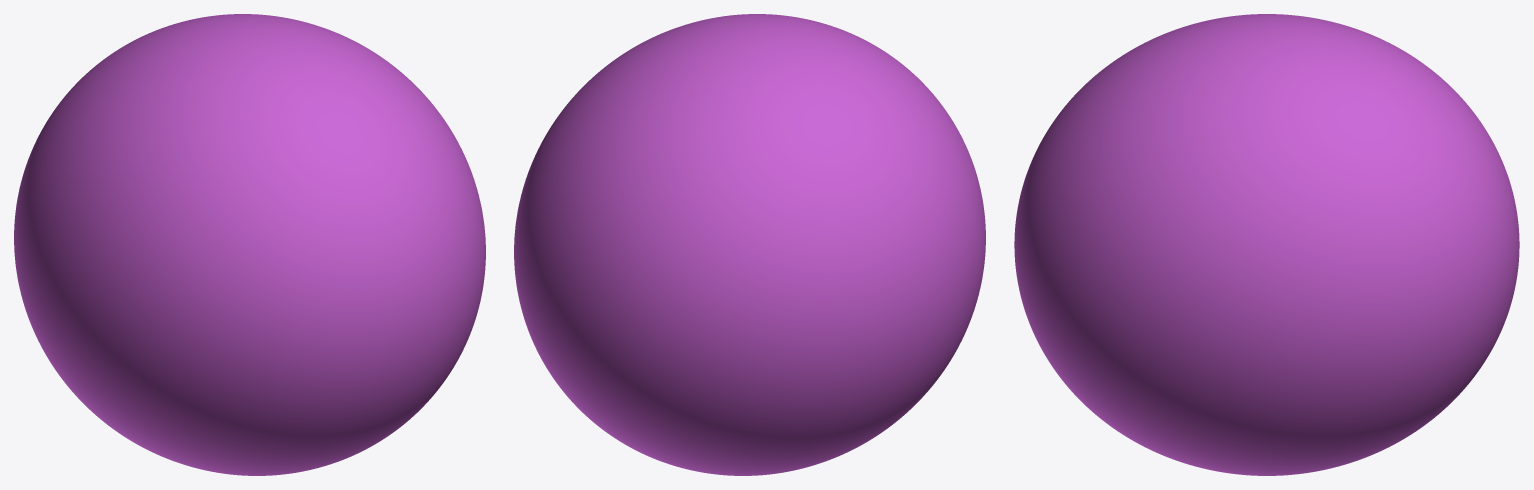
Rendered from ttttuntitled 1.fbx.
3 renders of one model, left to right at view 1: azimuth 30°, elevation 25°; view 2: azimuth 150°, elevation 25°; view 3: azimuth 270°, elevation 25°, orthographic.
Visible parts, largest first — view 1: Sphere2Left; view 2: Sphere2Left; view 3: Sphere2Left.
Part boxes in pixels (x1,y1,x2,y2): Sphere2Left: (14, 14, 485, 475); Sphere2Left: (514, 14, 985, 475); Sphere2Left: (1014, 14, 1519, 475).
Bounding box in the file's own units: 111 × 109 × 119.
